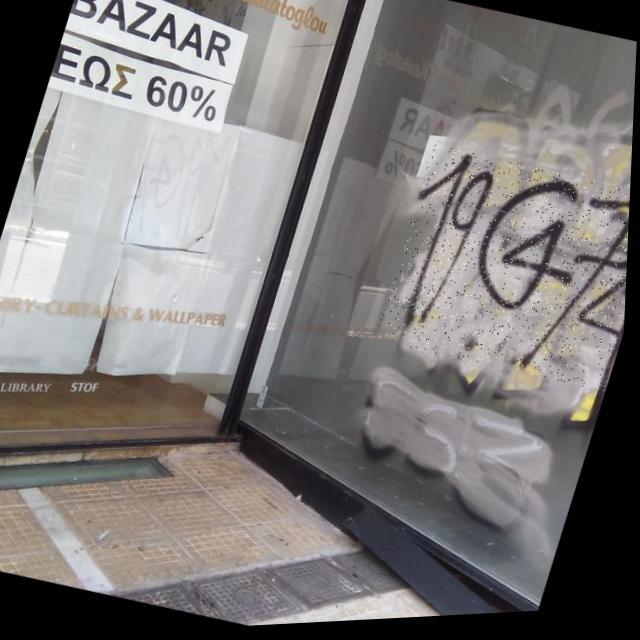-: (374, 141, 634, 407)
